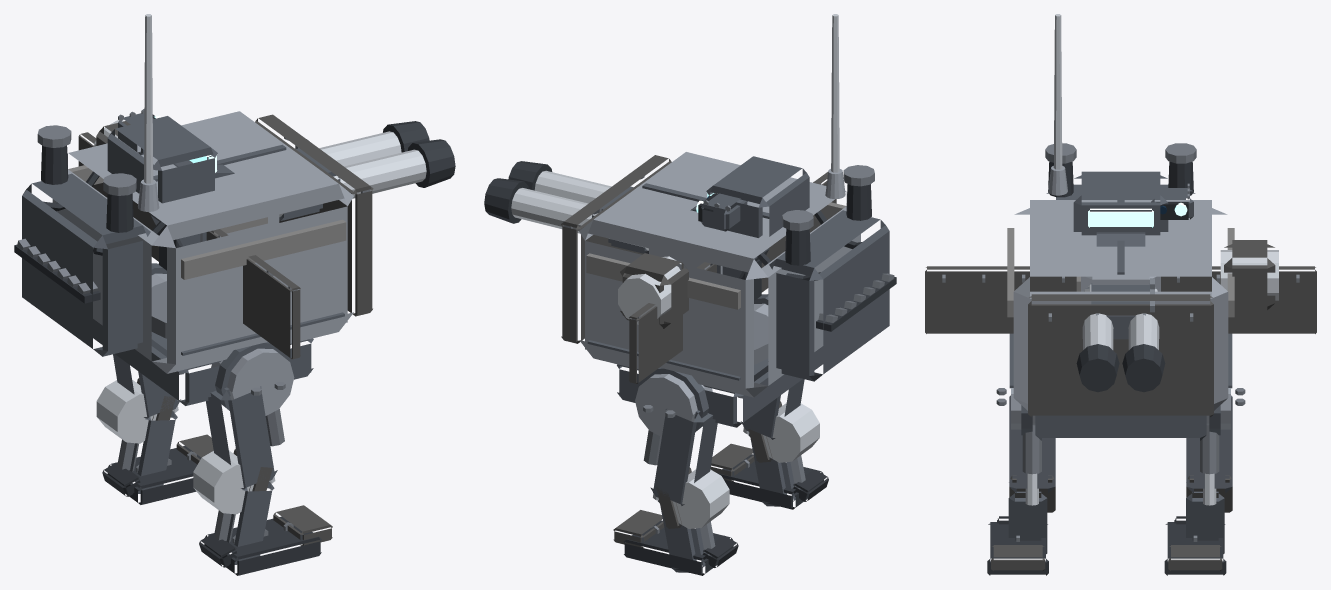
File: heavy.glb
3 views of the same model, side by side, from view 1: azimuth 30°, elevation 25°; view 2: azimuth 150°, elevation 25°; view 3: azimuth 270°, elevation 25° (orthographic). The views are drawn at different scales.
Parts seen in each view (by area): view 1: body, turret; view 2: body, turret; view 3: body, turret.
Part boxes in pixels (left/top/right/bottom): body: left=14, top=14, right=373, bottom=575; turret: left=150, top=121, right=455, bottom=270; body: left=561, top=14, right=896, bottom=575; turret: left=484, top=161, right=769, bottom=300; body: left=925, top=14, right=1316, bottom=575; turret: left=1076, top=232, right=1165, bottom=392.
Bounding box in the file's own units: 39.76 × 54.69 × 38.36.
